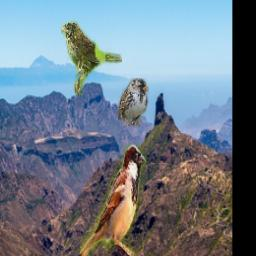Sparrow: (80, 145, 147, 256), (61, 22, 122, 96), (117, 78, 148, 126)
